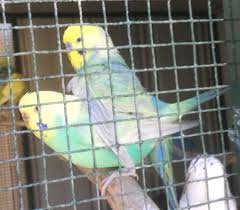budgie: (17, 89, 197, 186), (60, 24, 142, 101)
